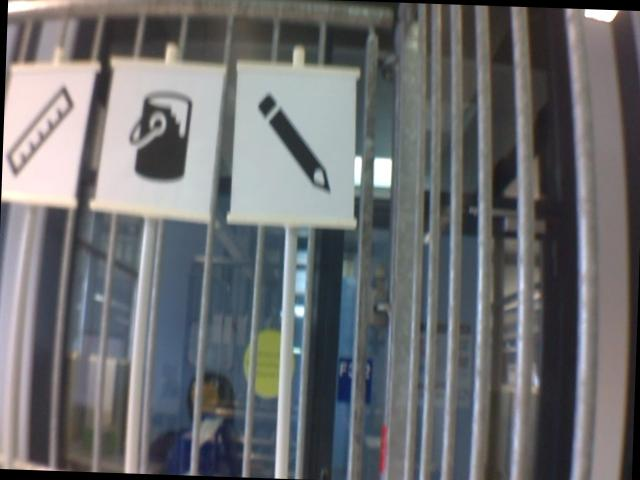bucket: (122, 86, 197, 189)
pencil: (247, 88, 337, 195)
ruler: (5, 81, 79, 183)
